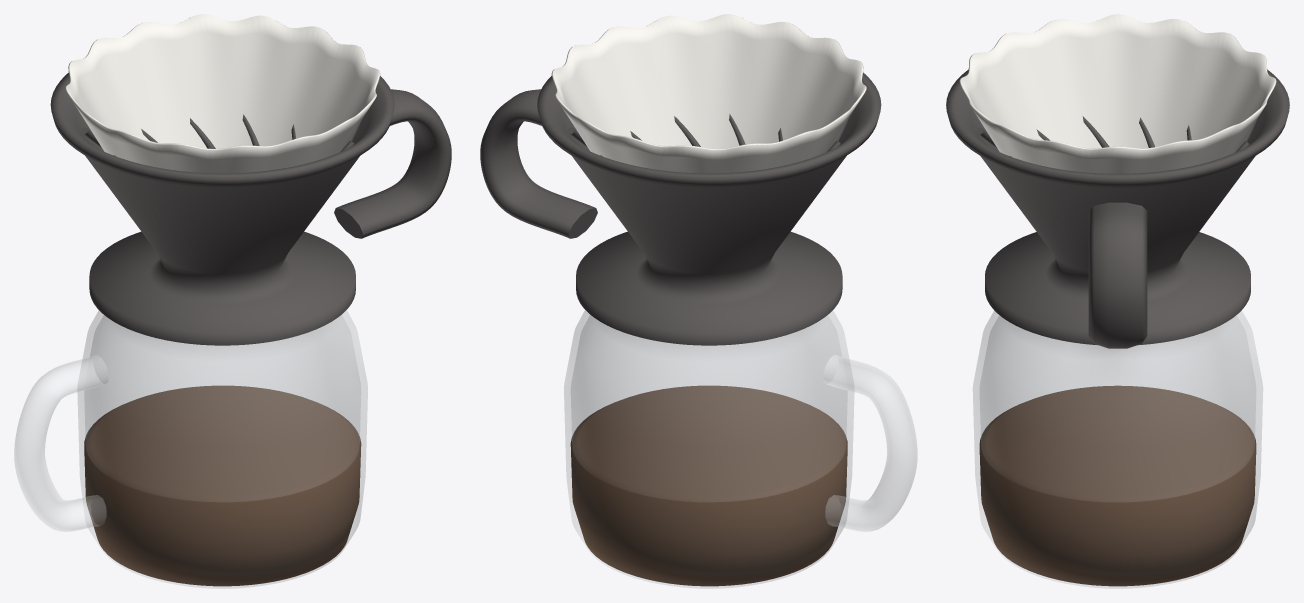
Rendered from v60_set.glb.
3 views of the same model, side by side, from view 1: azimuth 30°, elevation 25°; view 2: azimuth 150°, elevation 25°; view 3: azimuth 270°, elevation 25° (orthographic).
Visible parts, largest first — view 1: Server, Kopi, Dripper, Kertas, PeganganServer.001, PeganganDripper.001; view 2: Server, Kopi, Dripper, Kertas, PeganganServer.001, PeganganDripper.001; view 3: Server, Kopi, Kertas, Dripper, PeganganDripper.001.
Boxes of the visible parts, x1,y1,x2,y2 form: Server: [77, 310, 367, 588]; Kopi: [84, 385, 361, 586]; Dripper: [50, 72, 394, 345]; Kertas: [65, 14, 380, 173]; PeganganServer.001: [14, 355, 108, 531]; PeganganDripper.001: [334, 89, 451, 238]; Server: [564, 310, 854, 588]; Kopi: [570, 385, 847, 586]; Dripper: [537, 72, 881, 345]; Kertas: [551, 14, 866, 173]; PeganganServer.001: [823, 355, 917, 531]; PeganganDripper.001: [480, 89, 597, 238]; Server: [973, 311, 1262, 588]; Kopi: [979, 385, 1256, 586]; Kertas: [959, 14, 1276, 173]; Dripper: [946, 69, 1289, 345]; PeganganDripper.001: [1088, 202, 1147, 348].
Bounding box in the file's own units: 0.2037 × 0.2104 × 0.142.
